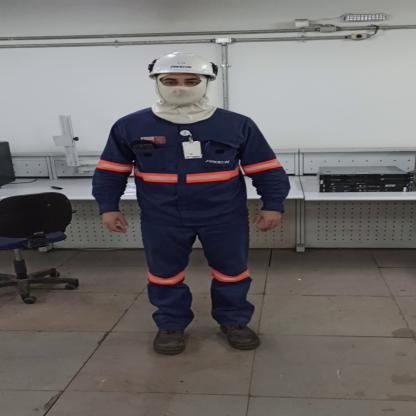Balaclava: (144, 73, 220, 124)
Capacete: (144, 52, 222, 81)
